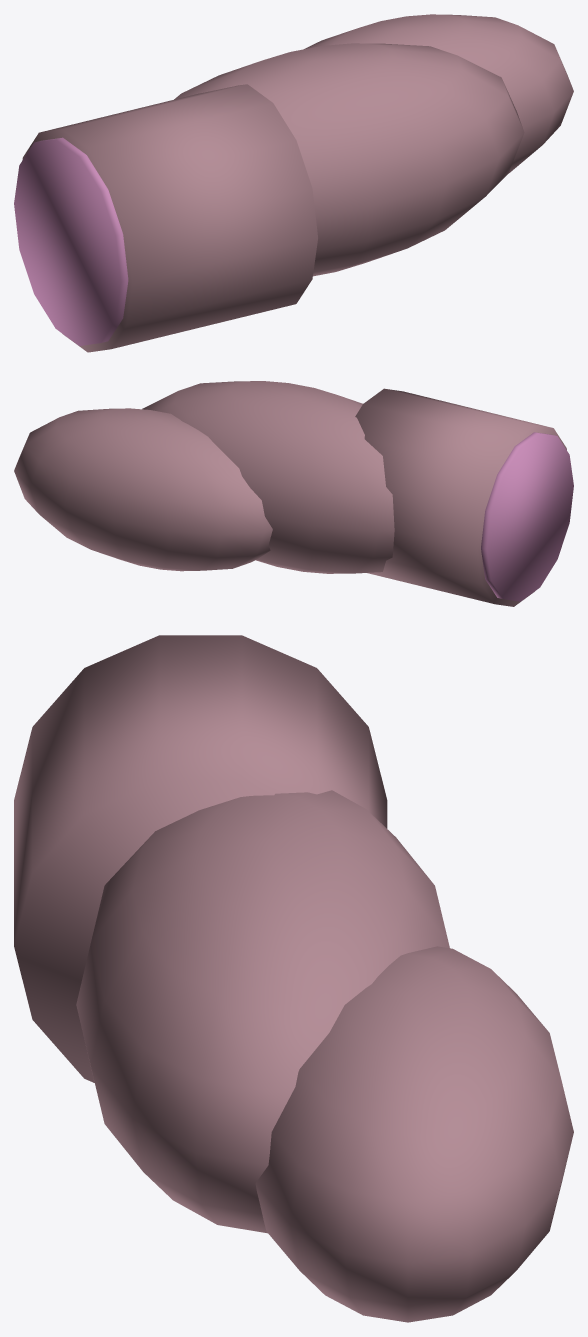
File: Food_ubi_jalar.fbx
The picture shows the model from 3 angles, top to bottom: view 1: azimuth 30°, elevation 25°; view 2: azimuth 150°, elevation 25°; view 3: azimuth 270°, elevation 25°; orthographic projection. The views are drawn at different scales.
Parts seen in each view (by area): view 1: Food_ubi_jalar; view 2: Food_ubi_jalar; view 3: Food_ubi_jalar.
Part boxes in pixels (x1,y1,x2,y2): Food_ubi_jalar: (14,14,573,352); Food_ubi_jalar: (14,381,573,606); Food_ubi_jalar: (14,635,573,1322).
Size of the model in its own units: 0.152 by 0.0526 by 0.081.
